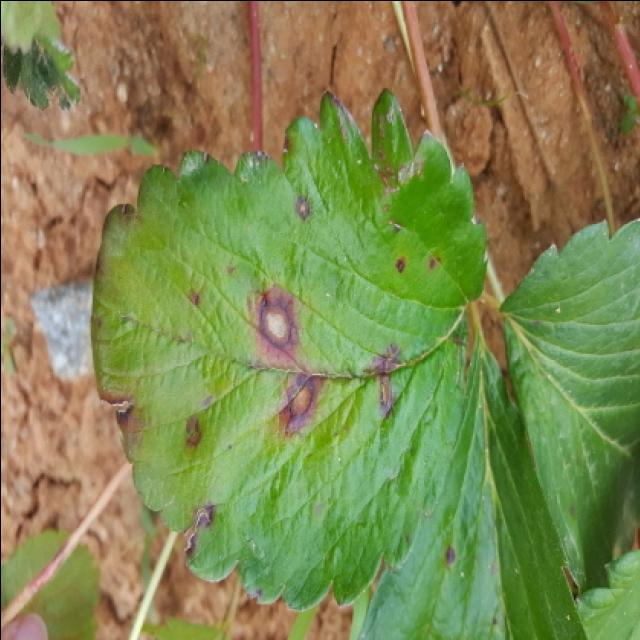Leaf Spot: (89, 84, 488, 610), (356, 323, 588, 640)
